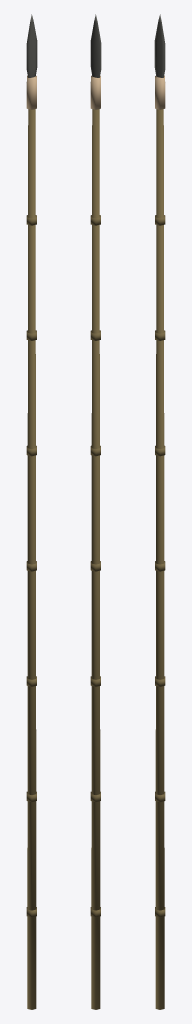
File: arma_tacuara.glb
The picture shows the model from 3 angles, left to right: view 1: azimuth 30°, elevation 25°; view 2: azimuth 150°, elevation 25°; view 3: azimuth 330°, elevation 25°; orthographic projection.
Visible parts, largest first — view 1: arma_tacuara; view 2: arma_tacuara; view 3: arma_tacuara.
Part boxes in pixels (x1=…): arma_tacuara: x1=26, y1=14, x2=37, y2=1009; arma_tacuara: x1=90, y1=14, x2=101, y2=1009; arma_tacuara: x1=154, y1=14, x2=165, y2=1009.
Size of the model in its own units: 0.0408 by 3.62 by 0.0346.
